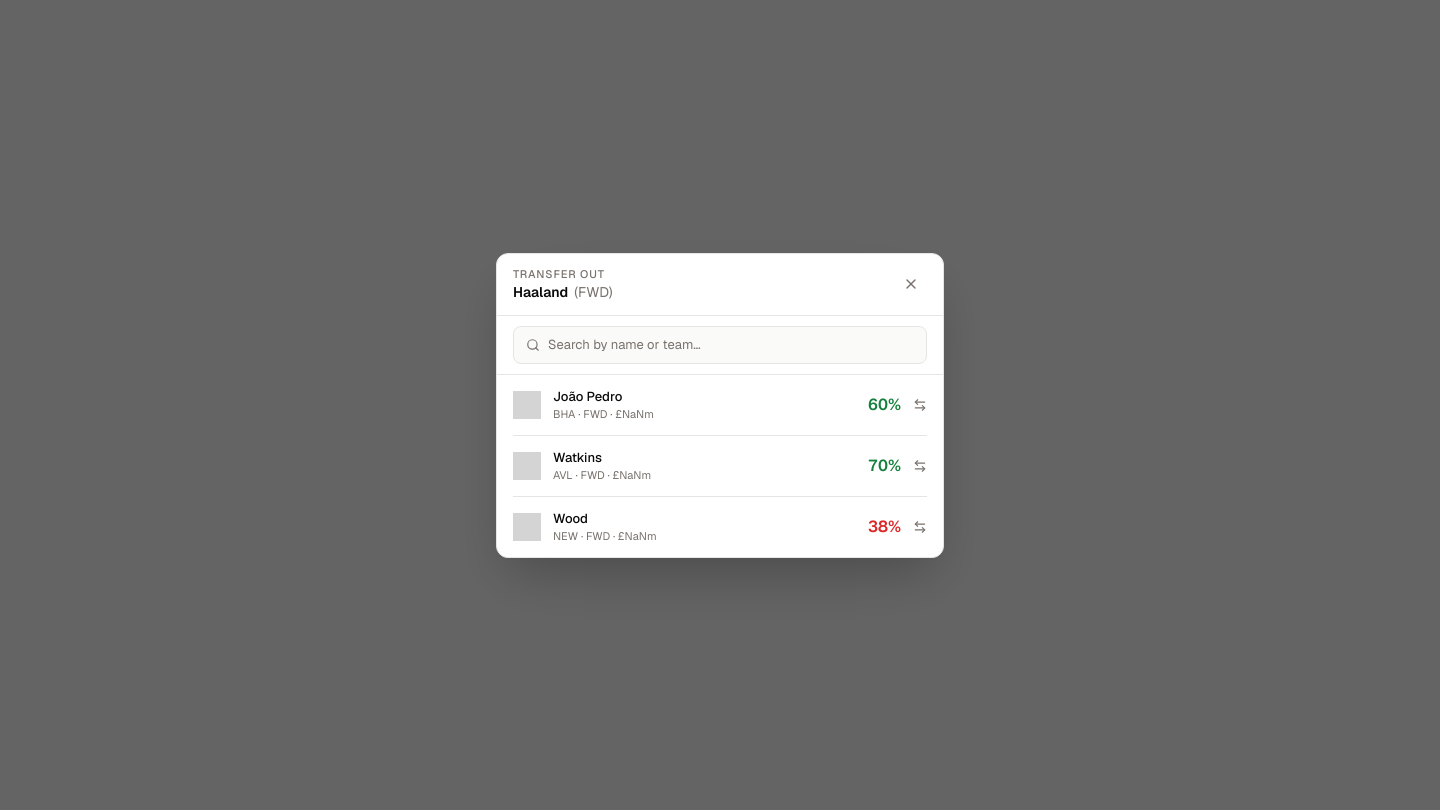
TransferModal › shows "No results" when search has no matches
The image size is (1440, 810).
Expected: the text "Watkins" is shown, [553, 448, 602, 466]
Type "zzzzzz" into the search field at (731, 345), box [548, 335, 914, 354]
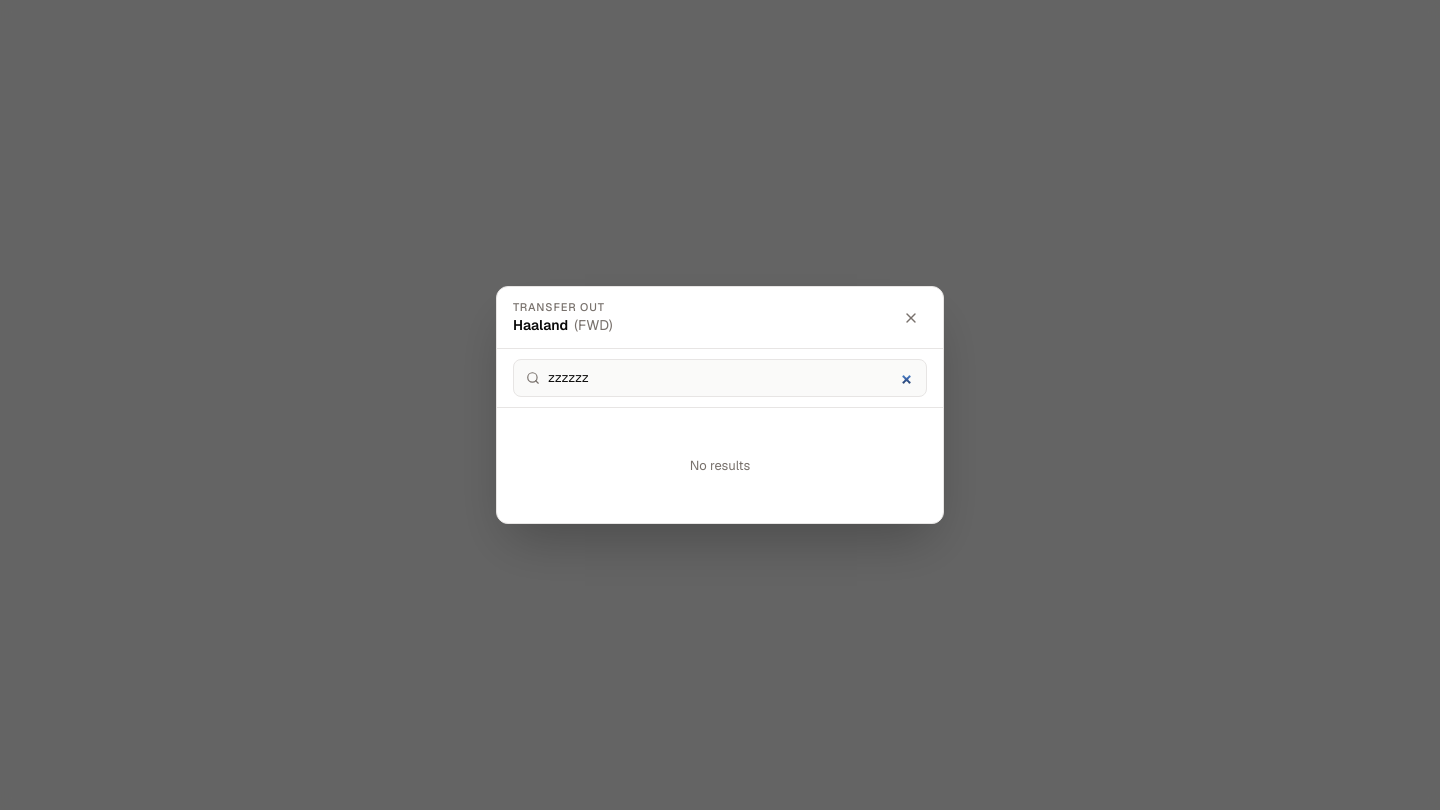
Now the text "No results" is shown, box [690, 456, 750, 475]
